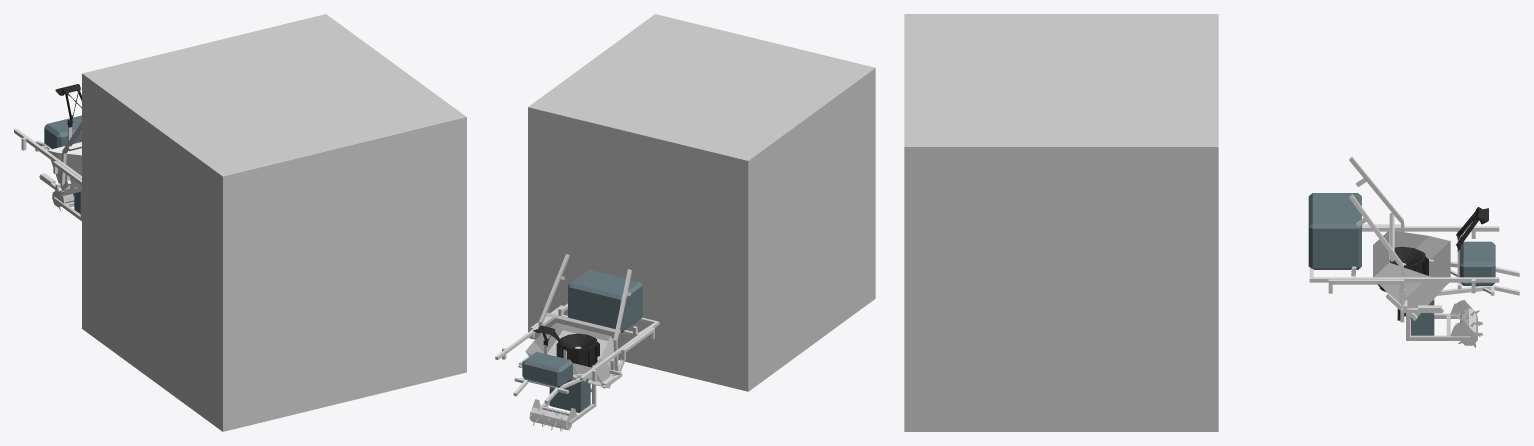
Rendered from boom.dae.
3 views of the same model, side by side, from view 1: azimuth 30°, elevation 25°; view 2: azimuth 150°, elevation 25°; view 3: azimuth 270°, elevation 25° (orthographic). The views are drawn at different scales.
Parts seen in each view (by area): view 1: Cube, dump, stickBox, frame, Rockgrinder; view 2: Cube, frameBox, Rockgrinder, dump, frame, stickBox, boom, WheelSimple, stick; view 3: Cube, frameBox, dump, frame, Rockgrinder, stickBox, boom, stick, WheelSimple.
Part boxes in pixels (x1,y1,x2,y2): Cube: [82, 14, 466, 431]; dump: [47, 142, 81, 196]; stickBox: [44, 115, 81, 148]; frame: [14, 129, 81, 185]; Rockgrinder: [52, 189, 81, 221]; Cube: [528, 14, 875, 391]; frameBox: [568, 269, 642, 332]; Rockgrinder: [529, 373, 596, 431]; dump: [525, 323, 615, 388]; frame: [495, 303, 659, 381]; stickBox: [522, 352, 572, 387]; boom: [538, 254, 631, 375]; WheelSimple: [556, 333, 599, 367]; stick: [513, 345, 592, 403]; Cube: [904, 14, 1218, 431]; frameBox: [1308, 193, 1361, 269]; dump: [1373, 230, 1450, 320]; frame: [1309, 224, 1499, 293]; Rockgrinder: [1404, 299, 1482, 347]; stickBox: [1459, 241, 1495, 285]; boom: [1349, 157, 1404, 310]; stick: [1429, 238, 1519, 300]; WheelSimple: [1377, 246, 1428, 291].
Size of the model in its own units: 2 by 3.91 by 2.
